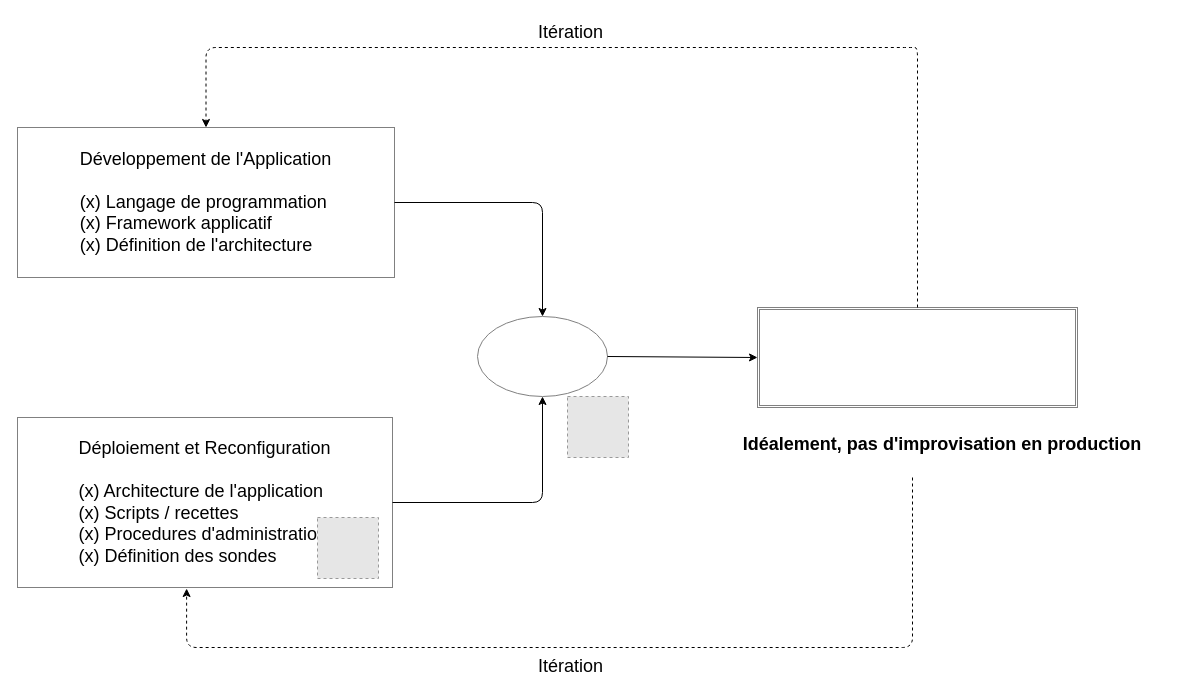
This 1195x698 diagram has some shape labels left out. Grey dashed boxes stand in for pictures. The shapes that lost their labels are listed below. From the top down, each one's centre as x and y in pixels, then its label:
the point at 542,356: Application Roboconf
the point at 917,357: Test / Environment(s) de Production
